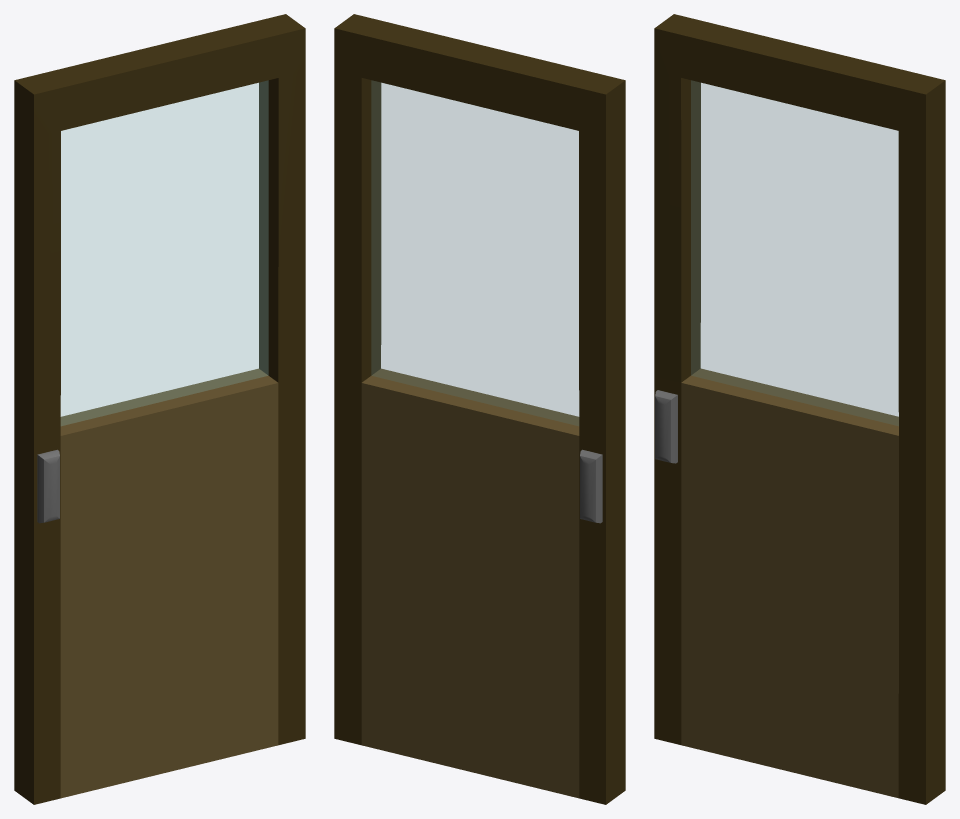
The model's file is door.fbx.
3 views of the same model, side by side, from view 1: azimuth 30°, elevation 25°; view 2: azimuth 150°, elevation 25°; view 3: azimuth 330°, elevation 25° (orthographic).
Parts seen in each view (by area): view 1: doorEn1; view 2: doorEn1; view 3: doorEn1.
Boxes of the visible parts, bbox=[...] form: doorEn1: bbox=[14, 14, 305, 804]; doorEn1: bbox=[334, 14, 625, 804]; doorEn1: bbox=[654, 14, 945, 804].
Bounding box in the file's own units: 80 × 200 × 16.
